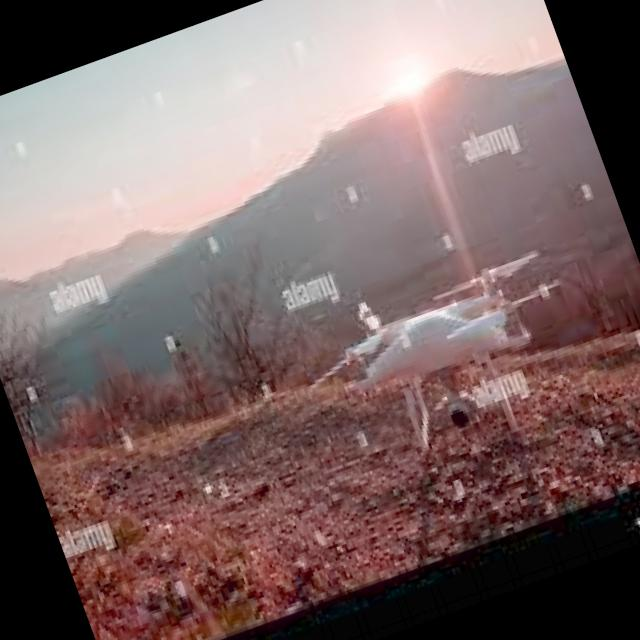drone: (300, 234, 594, 491)
